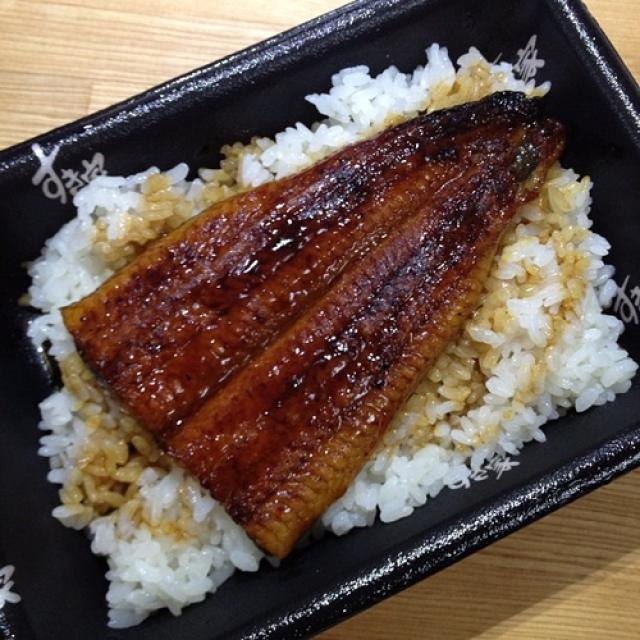熟制海鲜: (29, 53, 621, 604)
